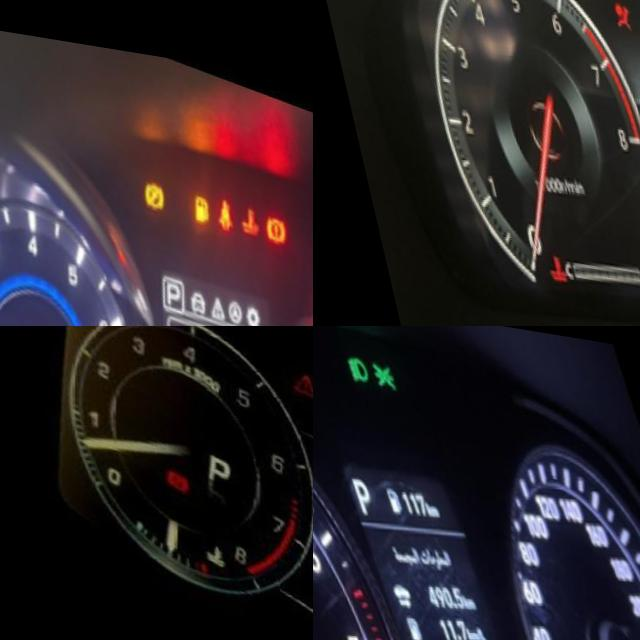Engine cooling system: (224, 185, 261, 231), (169, 530, 208, 568)
High Engine Coolant Temperature: (520, 245, 547, 282)
Low beam: (337, 337, 371, 378)
Low fuel level: (178, 175, 211, 220)
